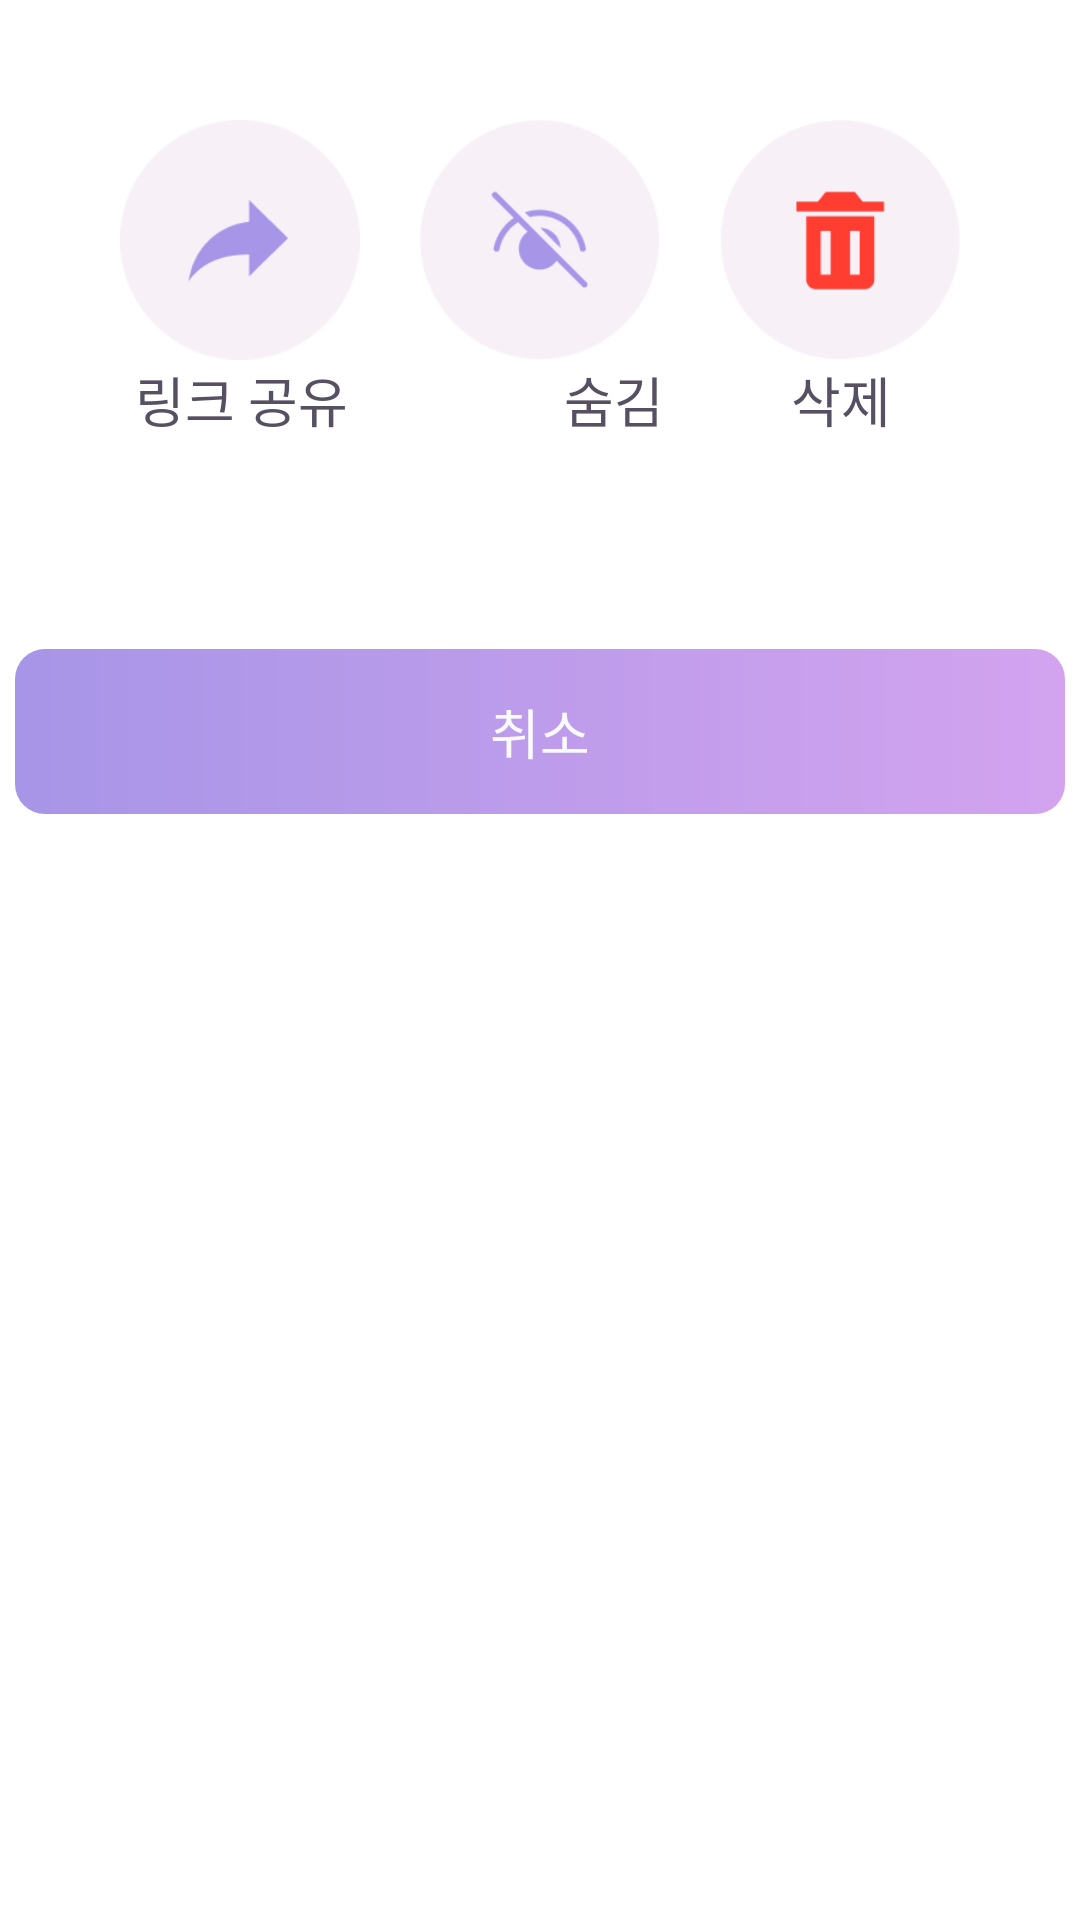

Where icons sit on this 1080 × 1920 app screen, as Rect(x1, y1, x2, y2):
bottom sheet delete: Rect(796, 191, 885, 290)
